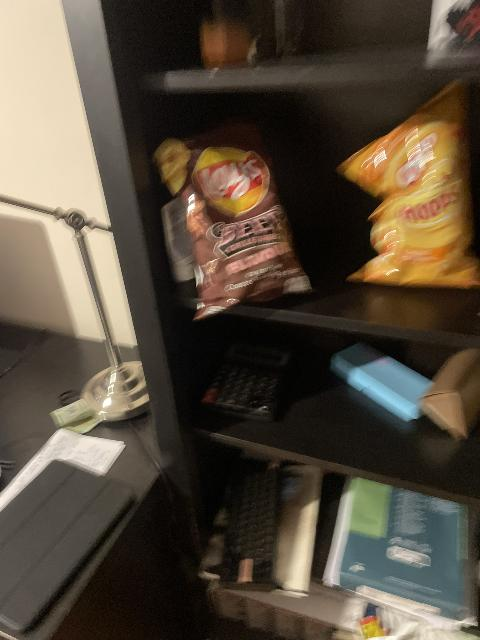Chio Hula Hoops Cheese 70g: (336, 80, 479, 291)
Lays Beef Grilled Ribs 125g: (157, 124, 321, 318)
